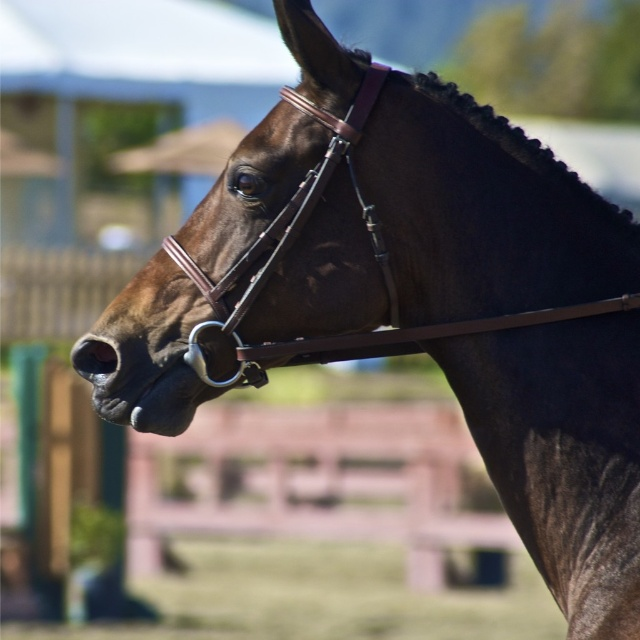Horse: (69, 0, 640, 640)
